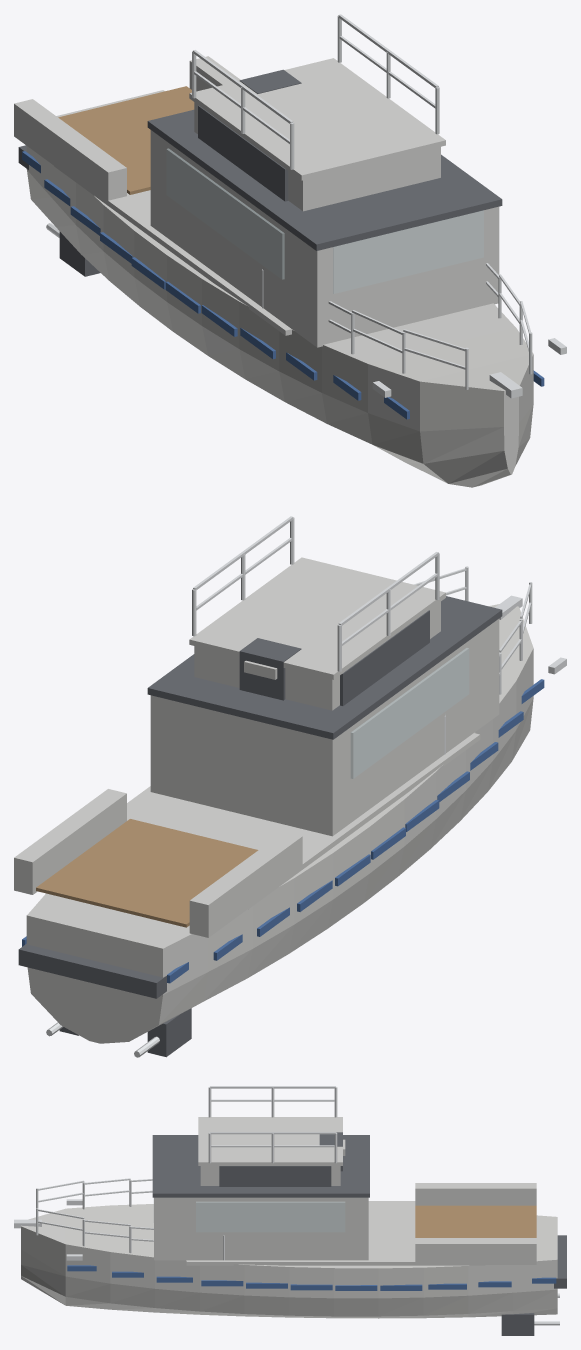
Rendered from PortCruiser.glb.
3 views of the same model, one above another, from view 1: azimuth 30°, elevation 25°; view 2: azimuth 150°, elevation 25°; view 3: azimuth 270°, elevation 25° (orthographic). The views are drawn at different scales.
Visible parts, largest first — view 1: marina-and-yacht-club-motor-cruiser-hull; view 2: marina-and-yacht-club-motor-cruiser-hull; view 3: marina-and-yacht-club-motor-cruiser-hull.
Boxes of the visible parts, bbox=[...] form: marina-and-yacht-club-motor-cruiser-hull: bbox=[14, 14, 566, 487]; marina-and-yacht-club-motor-cruiser-hull: bbox=[14, 516, 566, 1057]; marina-and-yacht-club-motor-cruiser-hull: bbox=[14, 1086, 566, 1335].
Bounding box in the file's own units: 2.52 × 3.77 × 9.
